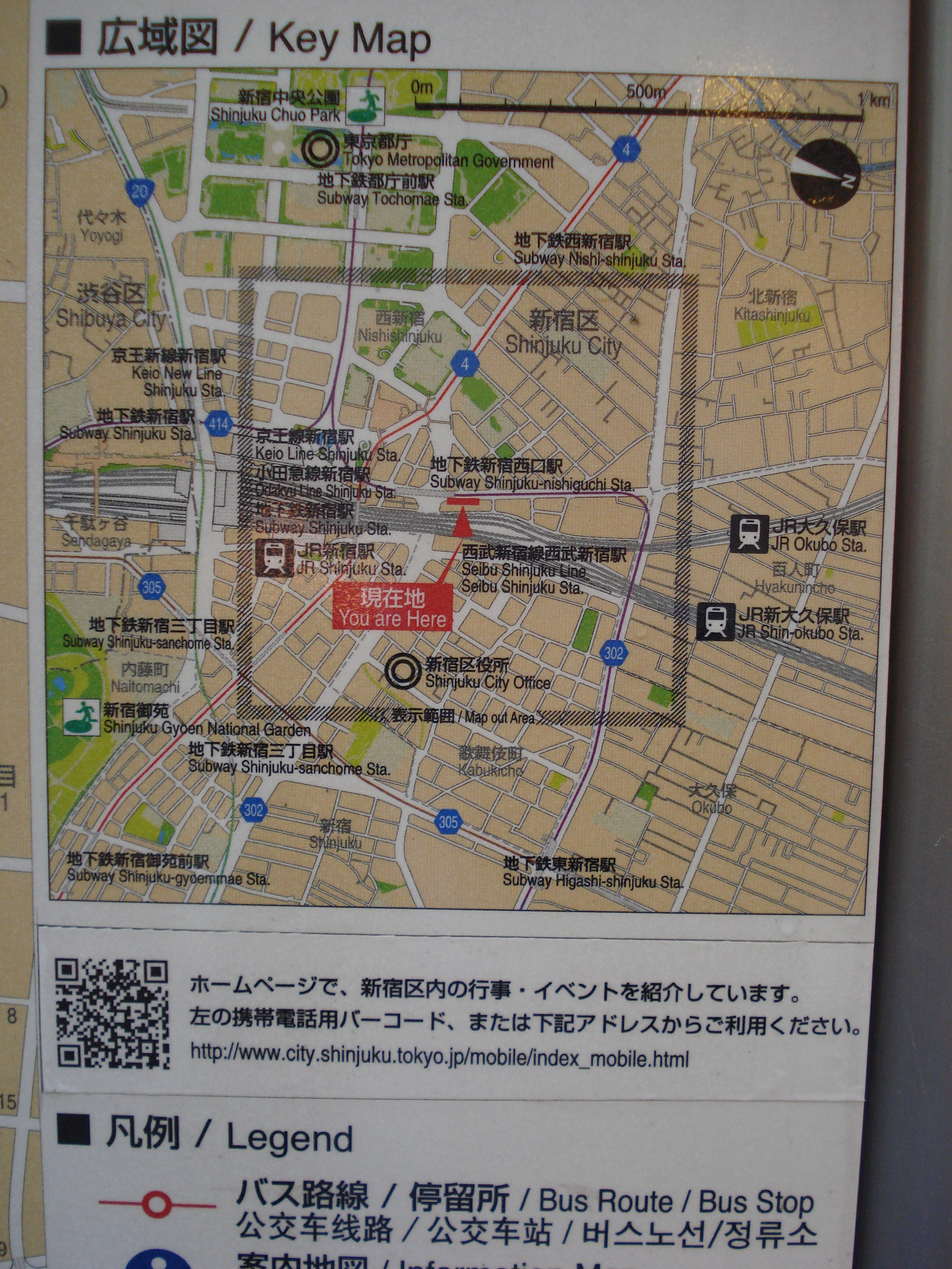QR-CODE: (55, 958, 169, 1069)
